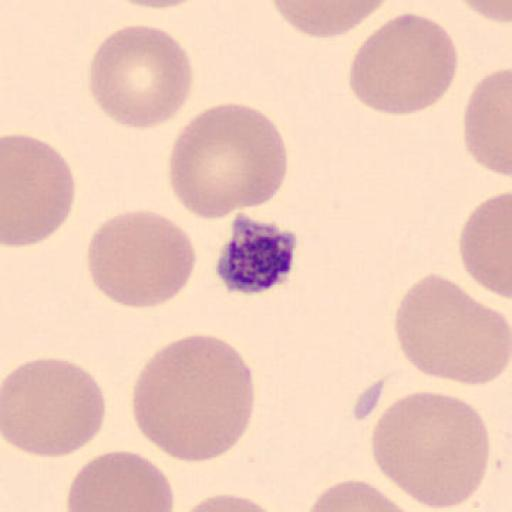Platelet: (208, 216, 302, 300)
RBC: (131, 332, 256, 464), (370, 389, 492, 509), (168, 102, 290, 220), (391, 272, 511, 386), (347, 11, 459, 117), (87, 22, 195, 130), (85, 209, 198, 310), (0, 355, 107, 460), (0, 133, 77, 248), (65, 450, 175, 511), (456, 190, 510, 300), (462, 66, 511, 179), (270, 0, 376, 39), (311, 478, 404, 511)
